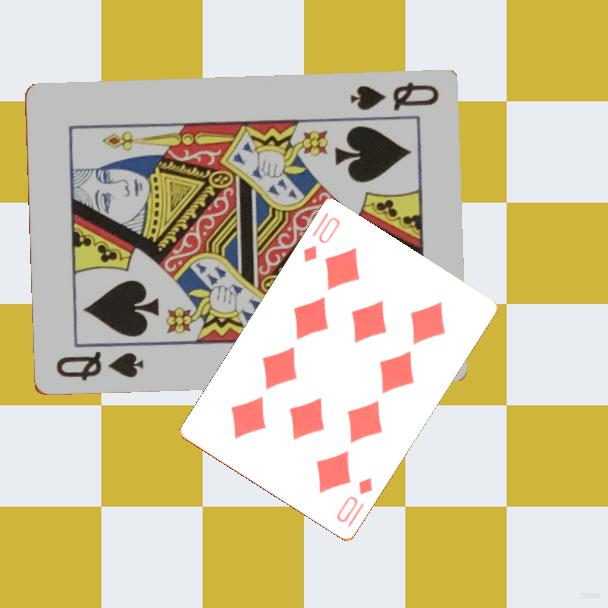d10: (300, 209, 343, 266), (333, 475, 376, 526)
s12: (346, 79, 441, 114), (52, 349, 146, 384)
